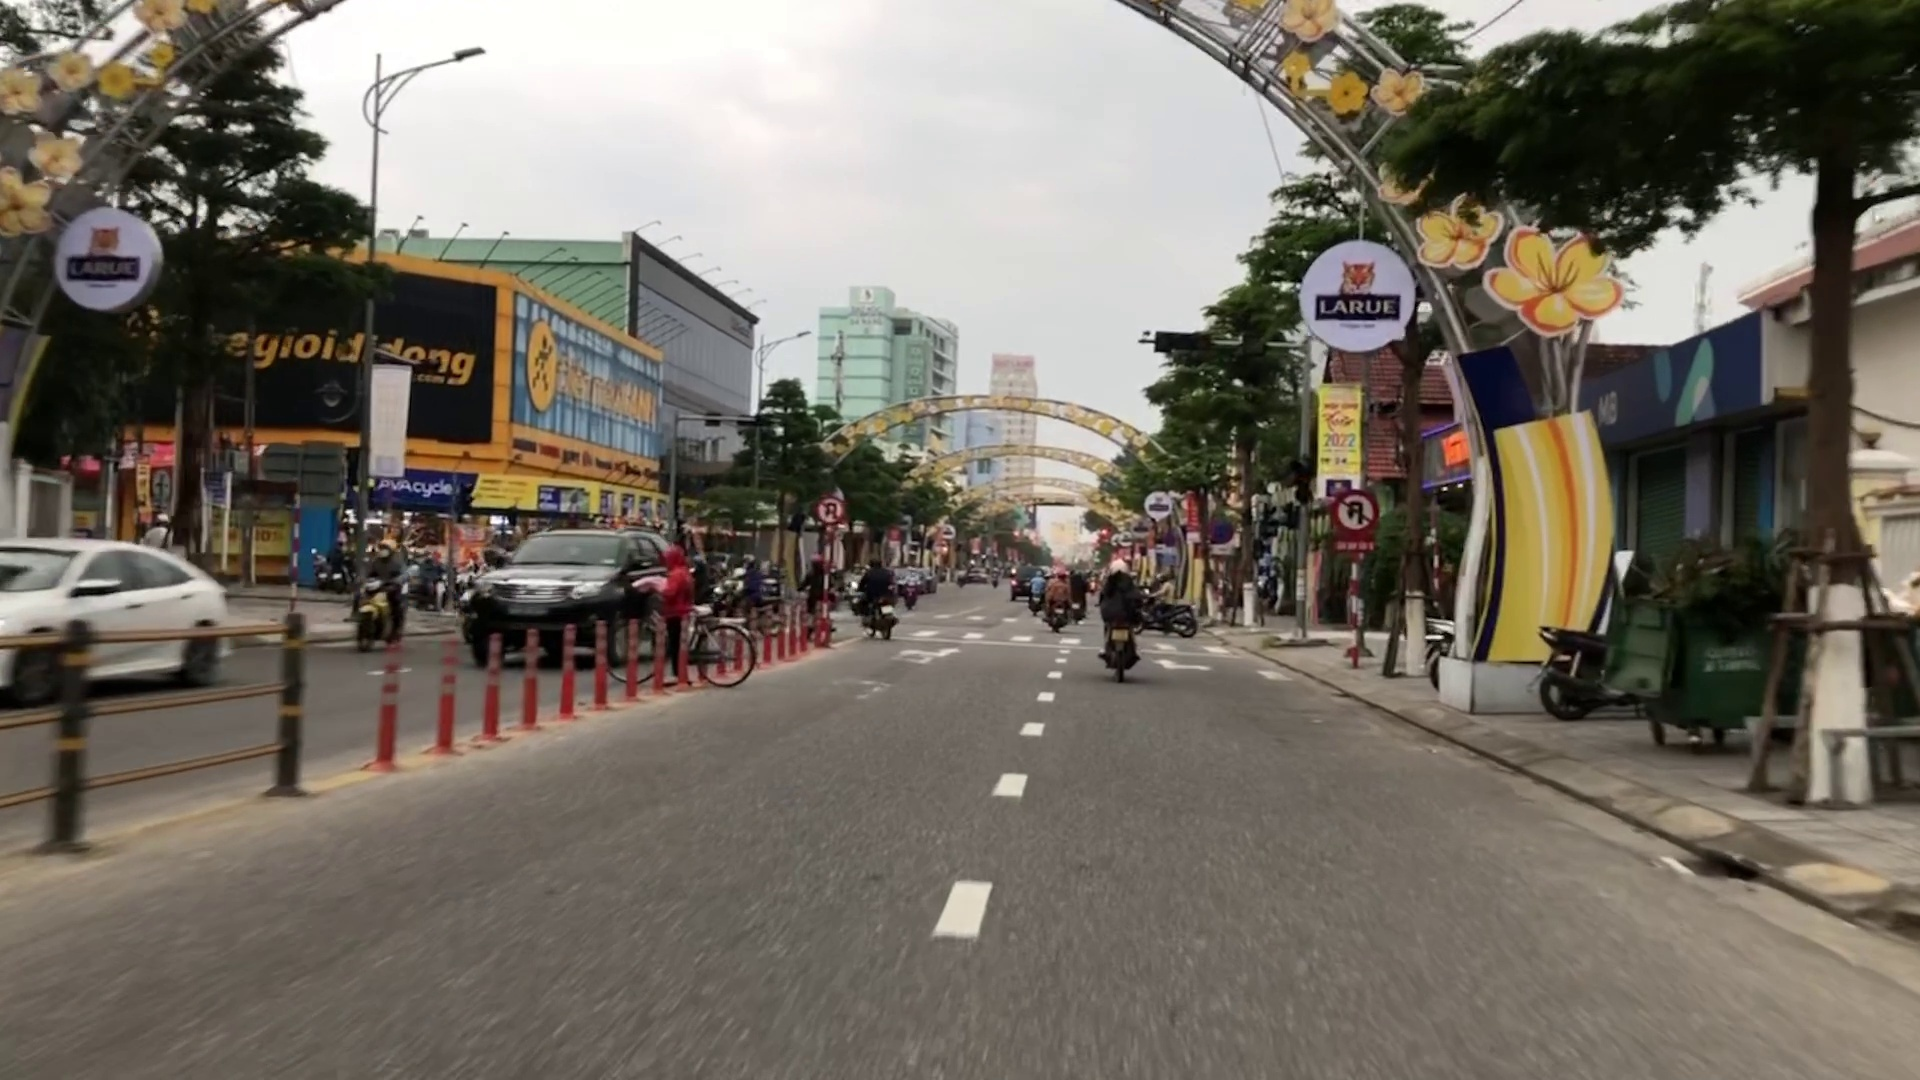Bien khac: (1335, 495, 1375, 534)
